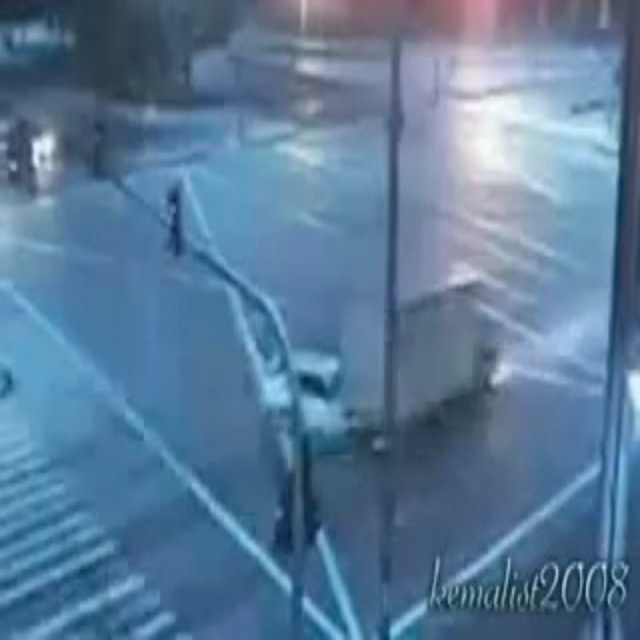acc: (222, 281, 509, 438)
